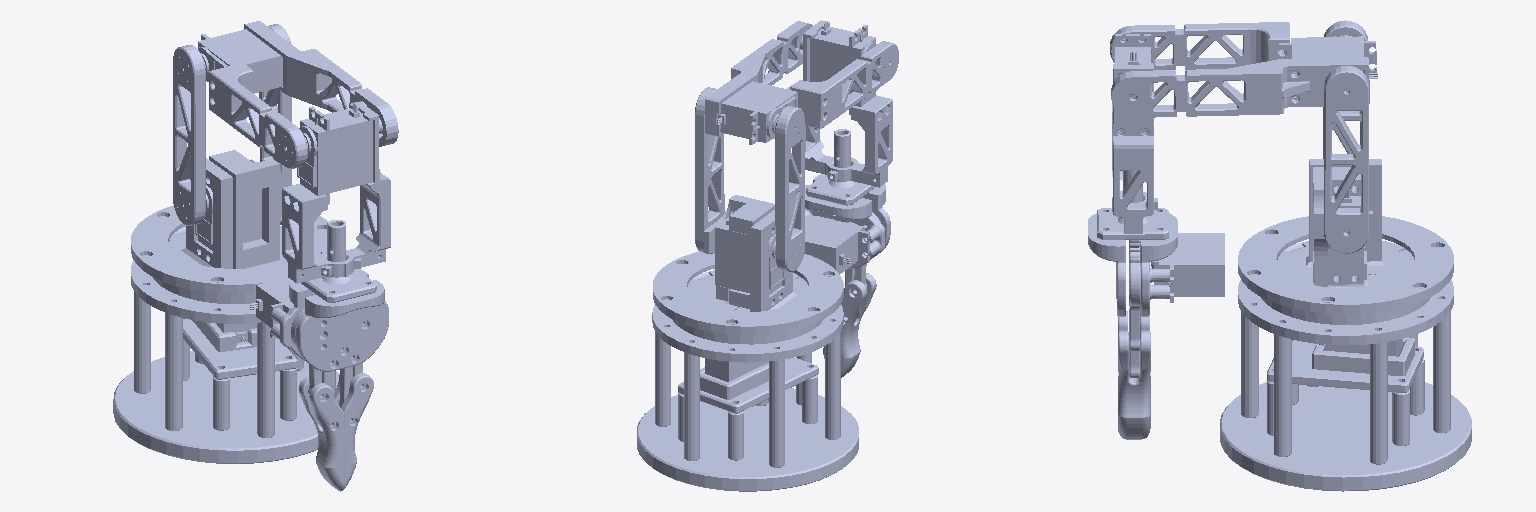
robot.urdf — arm_robot:
<?xml version="1.0" encoding="utf-8"?>
<!-- This URDF was automatically created by SolidWorks to URDF Exporter! Originally created by [author] ([email redacted]) 
     Commit Version: 1.6.0-4-g7f85cfe  Build Version: 1.6.7995.38578
     For more information, please see http://wiki.ros.org/sw_urdf_exporter -->
<robot
  name="arm_robot">
  <link name="world"/>
  <link
    name="base_link">
    <inertial>
      <origin
        xyz="9.515E-06 0.039111 -0.0011399"
        rpy="0 0 0" />
      <mass
        value="0.32792" />
      <inertia
        ixx="0.00031549"
        ixy="-3.3234E-09"
        ixz="1.0439E-07"
        iyy="0.00056878"
        iyz="3.9816E-07"
        izz="0.0003042" />
    </inertial>
    <visual>
      <origin
        xyz="0 0 0"
        rpy="0 0 0" />
      <geometry>
        <mesh
          filename="package://arm_robot/meshes/base_link.STL" />
      </geometry>
      <material
        name="">
        <color
          rgba="0.79216 0.81961 0.93333 1" />
      </material>
    </visual>
    <collision>
      <origin
        xyz="0 0 0"
        rpy="0 0 0" />
      <geometry>
        <mesh
          filename="package://arm_robot/meshes/base_link.STL" />
      </geometry>
    </collision>
  </link>
  <joint name="base_joint" type="fixed">
  	<parent link="world"/>
  	<child link="base_link"/>
  	<origin xyz="0.0 0.0 0.0" rpy="0 0 -0.1825" />
  </joint>
  <link
    name="link1">
    <inertial>
      <origin
        xyz="0.0012345 0.0011896 0.011462"
        rpy="0 0 0" />
      <mass
        value="0.11482" />
      <inertia
        ixx="6.3627E-05"
        ixy="1.4309E-07"
        ixz="-5.2922E-06"
        iyy="6.8271E-05"
        iyz="1.3999E-07"
        izz="7.3072E-05" />
    </inertial>
    <visual>
      <origin
        xyz="0 0 0"
        rpy="0 0 0" />
      <geometry>
        <mesh
          filename="package://arm_robot/meshes/link1.STL" />
      </geometry>
      <material
        name="">
        <color
          rgba="0.79216 0.81961 0.93333 1" />
      </material>
    </visual>
    <collision>
      <origin
        xyz="0 0 0"
        rpy="0 0 0" />
      <geometry>
        <mesh
          filename="package://arm_robot/meshes/link1.STL" />
      </geometry>
    </collision>
  </link>
  <joint
    name="joint1"
    type="revolute">
    <origin
      xyz="0 0 0.10402"
      rpy="0 0 -2.9483" />
    <parent
      link="base_link" />
    <child
      link="link1" />
    <axis
      xyz="0 0 1" />
    <limit
      lower="0"
      upper="3.14"
      effort="100"
      velocity="3" />
  </joint>
  <link
    name="link2">
    <inertial>
      <origin
        xyz="0.0027575 -7.8068E-05 0.042755"
        rpy="0 0 0" />
      <mass
        value="0.029045" />
      <inertia
        ixx="3.2041E-05"
        ixy="-3.231E-10"
        ixz="3.2943E-09"
        iyy="3.0399E-05"
        iyz="5.0904E-08"
        izz="1.9186E-06" />
    </inertial>
    <visual>
      <origin
        xyz="0 0 0"
        rpy="0 0 0" />
      <geometry>
        <mesh
          filename="package://arm_robot/meshes/link2.STL" />
      </geometry>
      <material
        name="">
        <color
          rgba="0.79216 0.81961 0.93333 1" />
      </material>
    </visual>
    <collision>
      <origin
        xyz="0 0 0"
        rpy="0 0 0" />
      <geometry>
        <mesh
          filename="package://arm_robot/meshes/link2.STL" />
      </geometry>
    </collision>
  </link>
  <joint
    name="joint2"
    type="revolute">
    <origin
      xyz="0 0 0.03687"
      rpy="0 0 0" />
    <parent
      link="link1" />
    <child
      link="link2" />
    <axis
      xyz="1 0 0" />
    <limit
      lower="-1.57"
      upper="1.57"
      effort="100"
      velocity="3" />
  </joint>
  <link
    name="link3">
    <inertial>
      <origin
        xyz="1.5837E-05 -0.00070891 0.039003"
        rpy="0 0 0" />
      <mass
        value="0.077371" />
      <inertia
        ixx="6.4529E-05"
        ixy="-4.7975E-10"
        ixz="-6.3013E-08"
        iyy="6.2971E-05"
        iyz="1.608E-06"
        izz="8.8158E-06" />
    </inertial>
    <visual>
      <origin
        xyz="0 0 0"
        rpy="0 0 0" />
      <geometry>
        <mesh
          filename="package://arm_robot/meshes/link3.STL" />
      </geometry>
      <material
        name="">
        <color
          rgba="0.79216 0.81961 0.93333 1" />
      </material>
    </visual>
    <collision>
      <origin
        xyz="0 0 0"
        rpy="0 0 0" />
      <geometry>
        <mesh
          filename="package://arm_robot/meshes/link3.STL" />
      </geometry>
    </collision>
  </link>
  <joint
    name="joint3"
    type="revolute">
    <origin
      xyz="0.00047075 -0.0001562 0.085951"
      rpy="3.1416 -1.5491 1.5708" />
    <parent
      link="link2" />
    <child
      link="link3" />
    <axis
      xyz="0 -1 0" />
    <limit
      lower="-3.14"
      upper="0"
      effort="100"
      velocity="3" />
  </joint>
  <link
    name="link4">
    <inertial>
      <origin
        xyz="-0.00038129 -0.0078323 0.075847"
        rpy="0 0 0" />
      <mass
        value="0.12848" />
      <inertia
        ixx="3.5471E-05"
        ixy="9.7263E-09"
        ixz="2.9642E-06"
        iyy="5.7704E-05"
        iyz="3.0681E-08"
        izz="3.7515E-05" />
    </inertial>
    <visual>
      <origin
        xyz="0 0 0"
        rpy="0 0 0" />
      <geometry>
        <mesh
          filename="package://arm_robot/meshes/link4.STL" />
      </geometry>
      <material
        name="">
        <color
          rgba="0.79216 0.81961 0.93333 1" />
      </material>
    </visual>
    <collision>
      <origin
        xyz="0 0 0"
        rpy="0 0 0" />
      <geometry>
        <mesh
          filename="package://arm_robot/meshes/link4.STL" />
      </geometry>
    </collision>
  </link>
  <joint
    name="joint4"
    type="revolute">
    <origin
      xyz="0 0.0014 0.1181"
      rpy="1.5491 0 -1.5708" />
    <parent
      link="link3" />
    <child
      link="link4" />
    <axis
      xyz="1 0 0" />
    <limit
      lower="-3.14"
      upper="0"
      effort="100"
      velocity="3" />
  </joint>
  <link
    name="link5">
    <inertial>
      <origin
        xyz="0.0041115 -0.038332 -0.0048823"
        rpy="0 0 0" />
      <mass
        value="0.021692" />
      <inertia
        ixx="6.1826E-06"
        ixy="6.7527E-07"
        ixz="-6.6917E-11"
        iyy="1.0197E-06"
        iyz="5.1577E-10"
        izz="6.5131E-06" />
    </inertial>
    <visual>
      <origin
        xyz="0 0 0"
        rpy="0 0 0" />
      <geometry>
        <mesh
          filename="package://arm_robot/meshes/link5.STL" />
      </geometry>
      <material
        name="">
        <color
          rgba="0.79216 0.81961 0.93333 1" />
      </material>
    </visual>
    <collision>
      <origin
        xyz="0 0 0"
        rpy="0 0 0" />
      <geometry>
        <mesh
          filename="package://arm_robot/meshes/link5.STL" />
      </geometry>
    </collision>
  </link>
  <joint
    name="joint5"
    type="revolute">
    <origin
      xyz="-0.013607 0.0040353 0.11993"
      rpy="-1.5708 0 0" />
    <parent
      link="link4" />
    <child
      link="link5" />
    <axis
      xyz="0 0 -1" />
    <limit
      lower="0"
      upper="1.57"
      effort="100"
      velocity="3" />
  </joint>
  <link
    name="link6">
    <inertial>
      <origin
        xyz="-0.0051564 -0.047507 -0.0048492"
        rpy="0 0 0" />
      <mass
        value="0.01684" />
      <inertia
        ixx="5.2415E-06"
        ixy="-6.3656E-07"
        ixz="9.8207E-11"
        iyy="7.9054E-07"
        iyz="3.3589E-10"
        izz="5.3712E-06" />
    </inertial>
    <visual>
      <origin
        xyz="0 0 0"
        rpy="0 0 0" />
      <geometry>
        <mesh
          filename="package://arm_robot/meshes/link6.STL" />
      </geometry>
      <material
        name="">
        <color
          rgba="0.79216 0.81961 0.93333 1" />
      </material>
    </visual>
    <collision>
      <origin
        xyz="0 0 0"
        rpy="0 0 0" />
      <geometry>
        <mesh
          filename="package://arm_robot/meshes/link6.STL" />
      </geometry>
    </collision>
  </link>
  <joint
    name="joint6"
    type="revolute">
    <origin
      xyz="0.014393 0.0040353 0.11993"
      rpy="-1.5708 0 0" />
    <parent
      link="link4" />
    <child
      link="link6" />
    <axis
      xyz="0 0 -1" />
    <limit
      lower="-1.57"
      upper="0"
      effort="100"
      velocity="3" />
  </joint>
  <transmission name="link1_trans">
    <type>transmission_interface/SimpleTransmission</type>
    <joint name="joint1">
      <hardwareInterface>hardware_interface/PositionJointInterface</hardwareInterface>
    </joint>
    <actuator name="link1_motor">
      <hardwareInterface>hardware_interface/PositionJointInterface</hardwareInterface>
      <mechanicalReduction>1</mechanicalReduction>
    </actuator>
  </transmission>
  <transmission name="link2_trans">
    <type>transmission_interface/SimpleTransmission</type>
    <joint name="joint2">
      <hardwareInterface>hardware_interface/PositionJointInterface</hardwareInterface>
    </joint>
    <actuator name="link2_motor">
      <hardwareInterface>hardware_interface/PositionJointInterface</hardwareInterface>
      <mechanicalReduction>1</mechanicalReduction>
    </actuator>
  </transmission>
  <transmission name="link3_trans">
    <type>transmission_interface/SimpleTransmission</type>
    <joint name="joint3">
      <hardwareInterface>hardware_interface/PositionJointInterface</hardwareInterface>
    </joint>
    <actuator name="link3_motor">
      <hardwareInterface>hardware_interface/PositionJointInterface</hardwareInterface>
      <mechanicalReduction>1</mechanicalReduction>
    </actuator>
  </transmission>
  <transmission name="link4_trans">
    <type>transmission_interface/SimpleTransmission</type>
    <joint name="joint4">
      <hardwareInterface>hardware_interface/PositionJointInterface</hardwareInterface>
    </joint>
    <actuator name="link4_motor">
      <hardwareInterface>hardware_interface/PositionJointInterface</hardwareInterface>
      <mechanicalReduction>1</mechanicalReduction>
    </actuator>
  </transmission>
  <transmission name="link5_trans">
    <type>transmission_interface/SimpleTransmission</type>
    <joint name="joint5">
      <hardwareInterface>hardware_interface/PositionJointInterface</hardwareInterface>
    </joint>
    <actuator name="link5_motor">
      <hardwareInterface>hardware_interface/PositionJointInterface</hardwareInterface>
      <mechanicalReduction>1</mechanicalReduction>
    </actuator>
  </transmission>
  <transmission name="link6_trans">
    <type>transmission_interface/SimpleTransmission</type>
    <joint name="joint6">
      <hardwareInterface>hardware_interface/PositionJointInterface</hardwareInterface>
    </joint>
    <actuator name="link6_motor">
      <hardwareInterface>hardware_interface/PositionJointInterface</hardwareInterface>
      <mechanicalReduction>1</mechanicalReduction>
    </actuator>
  </transmission>
  <gazebo>
    <plugin name="control" filename="libgazebo_ros_control.so">
      <robotNamespace>/</robotNamespace>
    </plugin>
  </gazebo>
  <gazebo reference="link1">
    <selfCollide>true</selfCollide>
  </gazebo>
  <gazebo reference="link2">
    <selfCollide>true</selfCollide>
  </gazebo>
  <gazebo reference="link3">
    <selfCollide>true</selfCollide>
  </gazebo>
  <gazebo reference="link4">
    <selfCollide>true</selfCollide>
  </gazebo>
  <gazebo reference="link5">
    <selfCollide>true</selfCollide>
  </gazebo>
  <gazebo reference="link6">
    <selfCollide>true</selfCollide>
  </gazebo>
</robot>

--- Facts derived from the render (not from the file) ---
The picture shows the robot from 3 angles, left to right: view 1: azimuth 30°, elevation 25°; view 2: azimuth 150°, elevation 25°; view 3: azimuth 270°, elevation 25°; orthographic projection.
Model arm_robot with 8 links and 7 joints (6 revolute, 1 fixed), rooted at world, posed all joints at 0.
Links seen in each view (by area): view 1: base_link, link4, link3, link1, link2, link5, link6; view 2: base_link, link4, link3, link1, link2, link5; view 3: base_link, link3, link4, link1, link2, link6.
Link boxes in pixels (<box>): base_link: <box>113,205,339,463</box>; link4: <box>250,102,390,371</box>; link3: <box>198,21,398,168</box>; link1: <box>153,150,285,303</box>; link2: <box>173,24,291,225</box>; link5: <box>291,308,343,491</box>; link6: <box>334,323,373,489</box>; base_link: <box>637,251,858,491</box>; link4: <box>800,20,892,274</box>; link3: <box>705,21,898,144</box>; link1: <box>672,195,823,344</box>; link2: <box>695,87,804,271</box>; link5: <box>841,212,880,377</box>; base_link: <box>1220,216,1471,491</box>; link3: <box>1110,22,1377,117</box>; link4: <box>1088,34,1224,316</box>; link1: <box>1261,159,1430,324</box>; link2: <box>1323,20,1368,253</box>; link6: <box>1118,252,1150,439</box>.
Size in the robot's own frame: 0.14 by 0.213 by 0.2419 metres.
7 mesh visuals loaded from 7 distinct referenced files (7 binary STL).